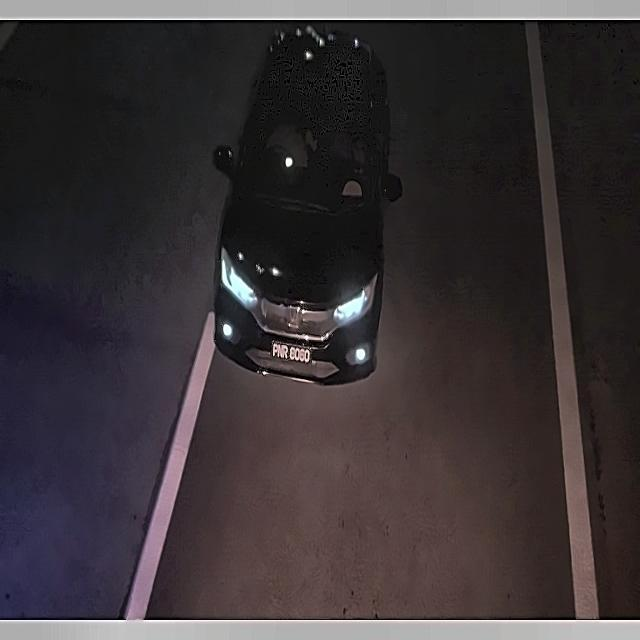car: (268, 332, 314, 368)
